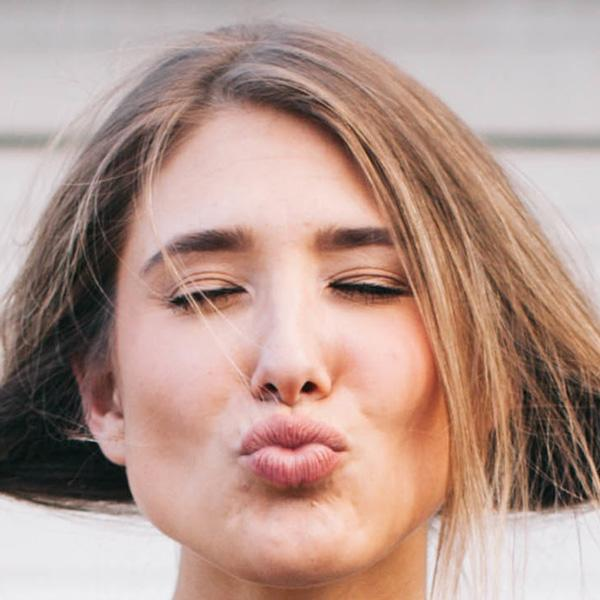Eyes: (152, 263, 253, 324), (315, 261, 430, 313)
